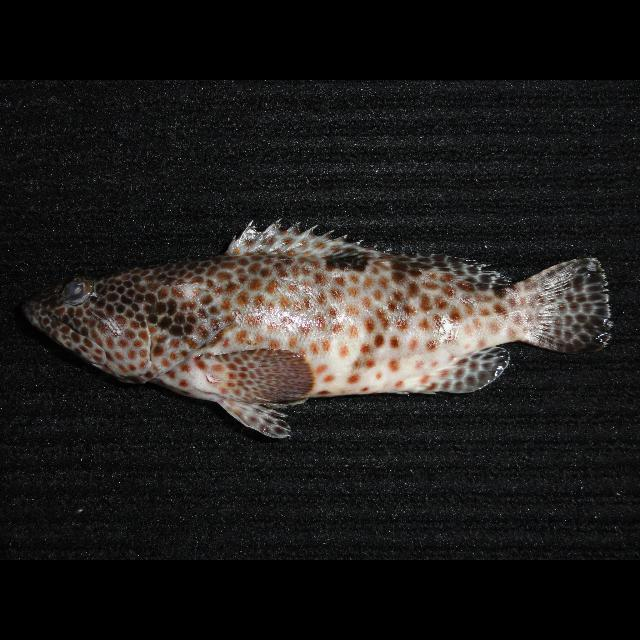Groupers: (22, 216, 620, 438)
